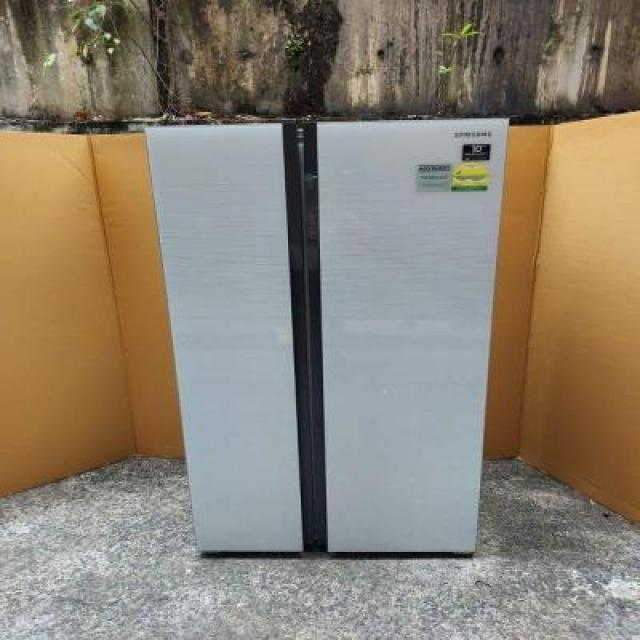refrigerator: (144, 116, 512, 554)
